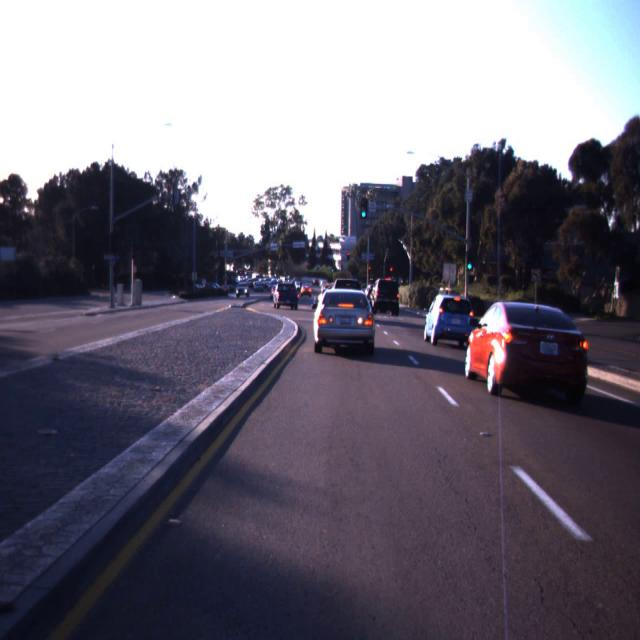go: (362, 212, 365, 216), (468, 264, 471, 268)
go traffic light: (359, 198, 368, 218), (465, 250, 474, 270)
